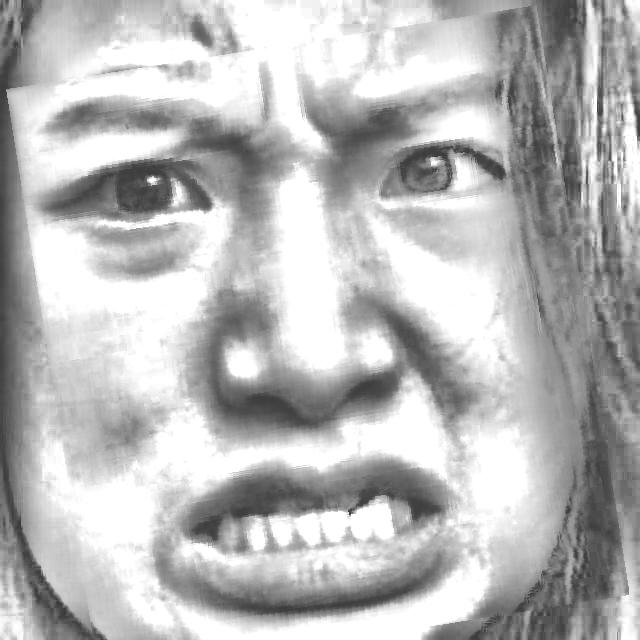angry: (27, 24, 607, 640)
